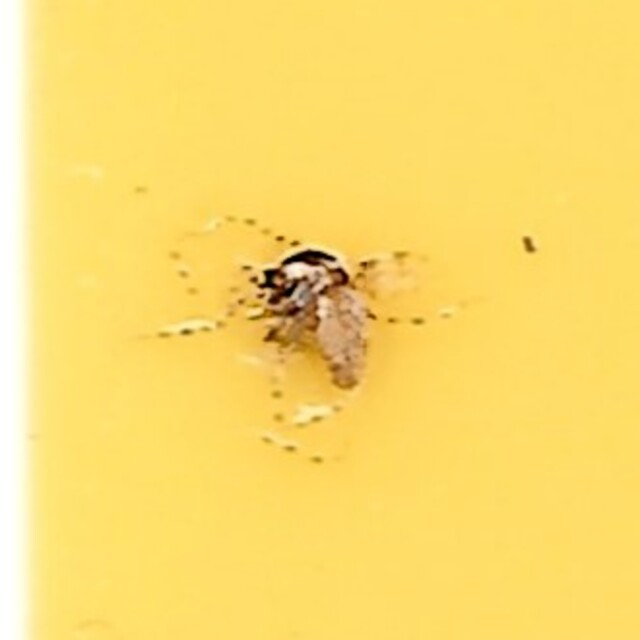Nematocera: (194, 215, 446, 425)
